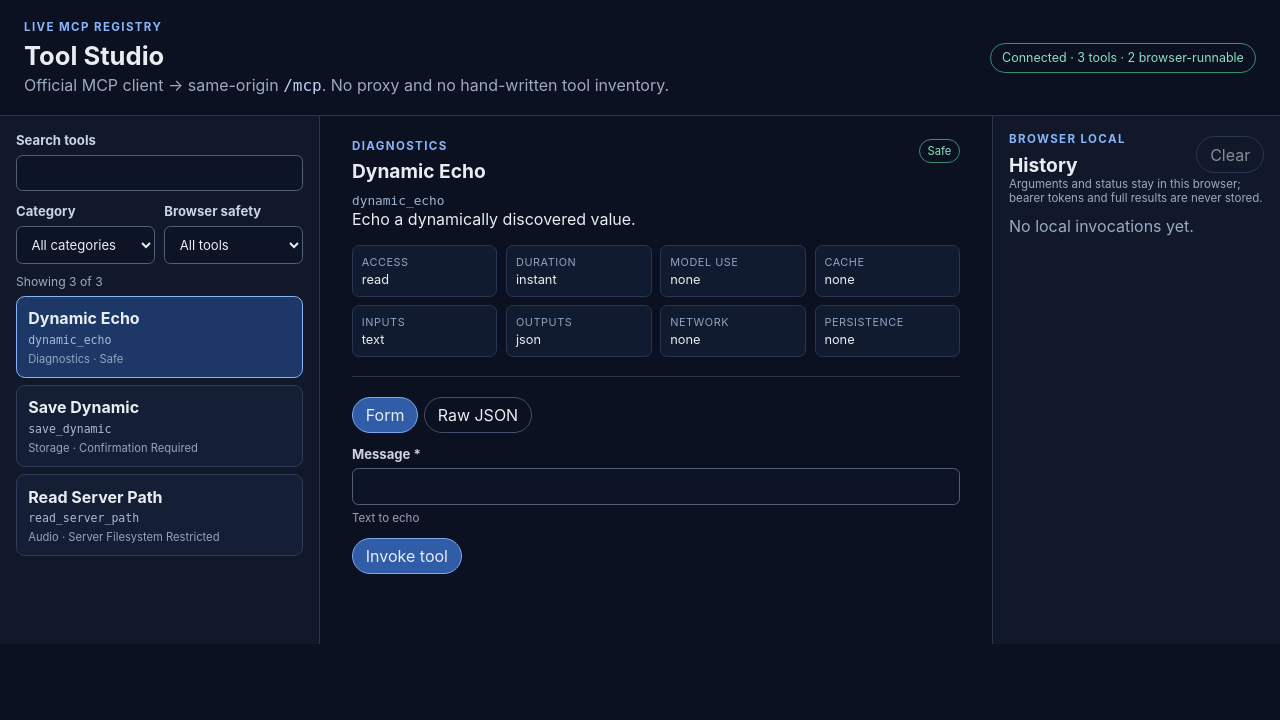
it: ToolStudio › renders every dynamically discovered tool and searches/filters the catalog
Expected: the text "Connected · 3 tools · 2 browser-runnable" is shown, [990,43,1256,73]
Expected: the button "Dynamic Echo dynamic_echo diagnostics · safe" is shown, [16,296,303,378]
Step 1. Type "server path" into the search field labelled "Search tools" → (160, 173), box [16,155,303,191]
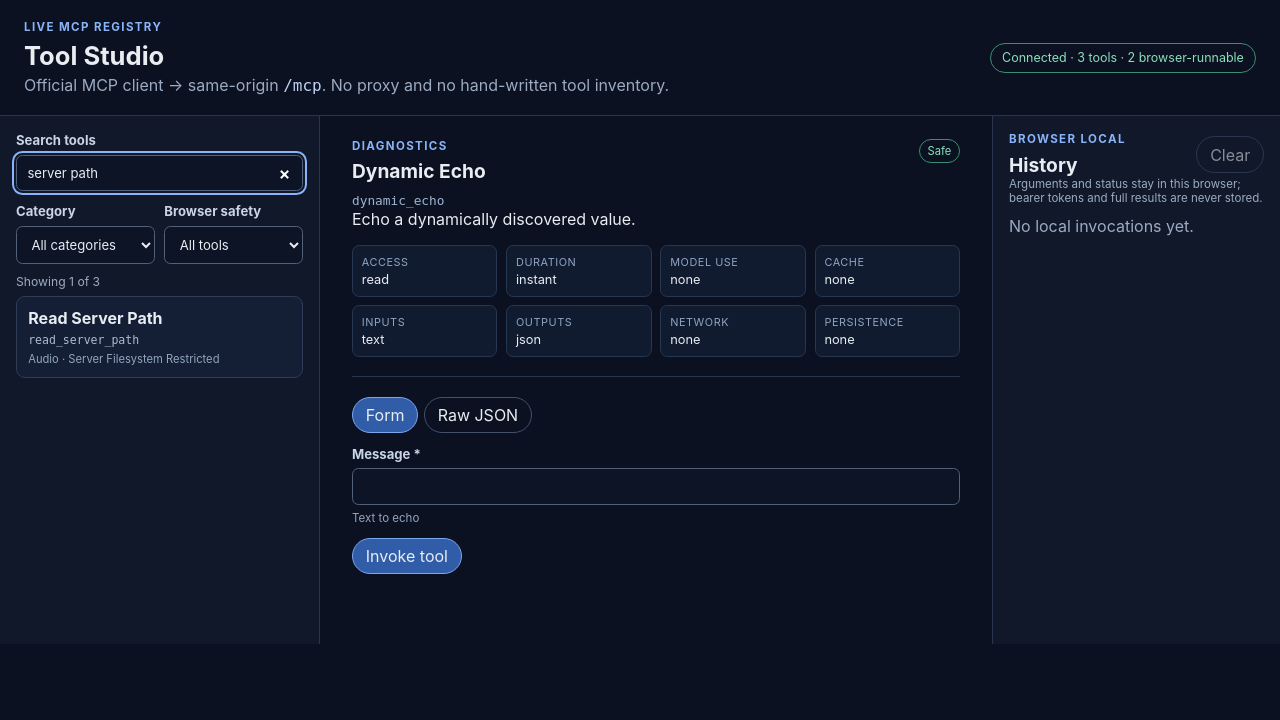
Expected: the button "read_server_path" is shown, [16,296,303,378]
Now the text "Showing 1 of 3" is shown, box [16,274,100,289]
Step 2. Clear the search field labelled "Search tools" → (160, 173), box [16,155,303,191]
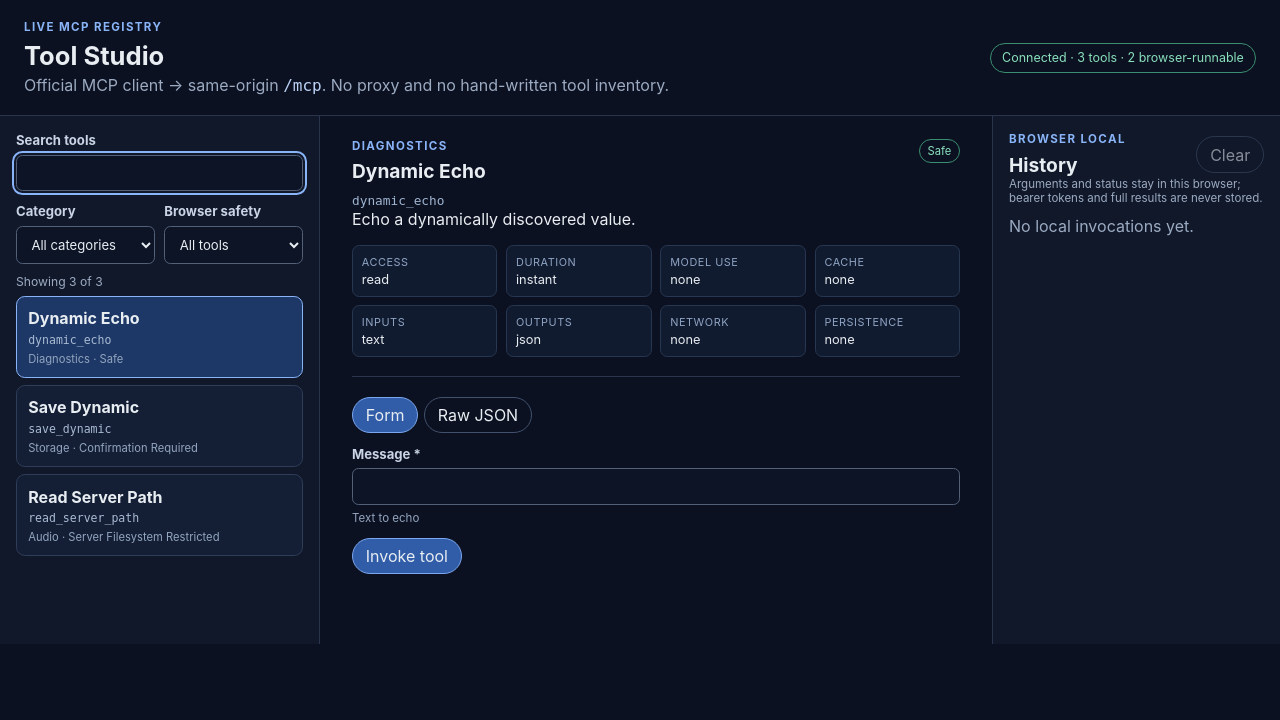
Step 3. Select "Browser-runnable" in the dropdown labelled "Browser safety" → (234, 245), box [164,226,303,264]
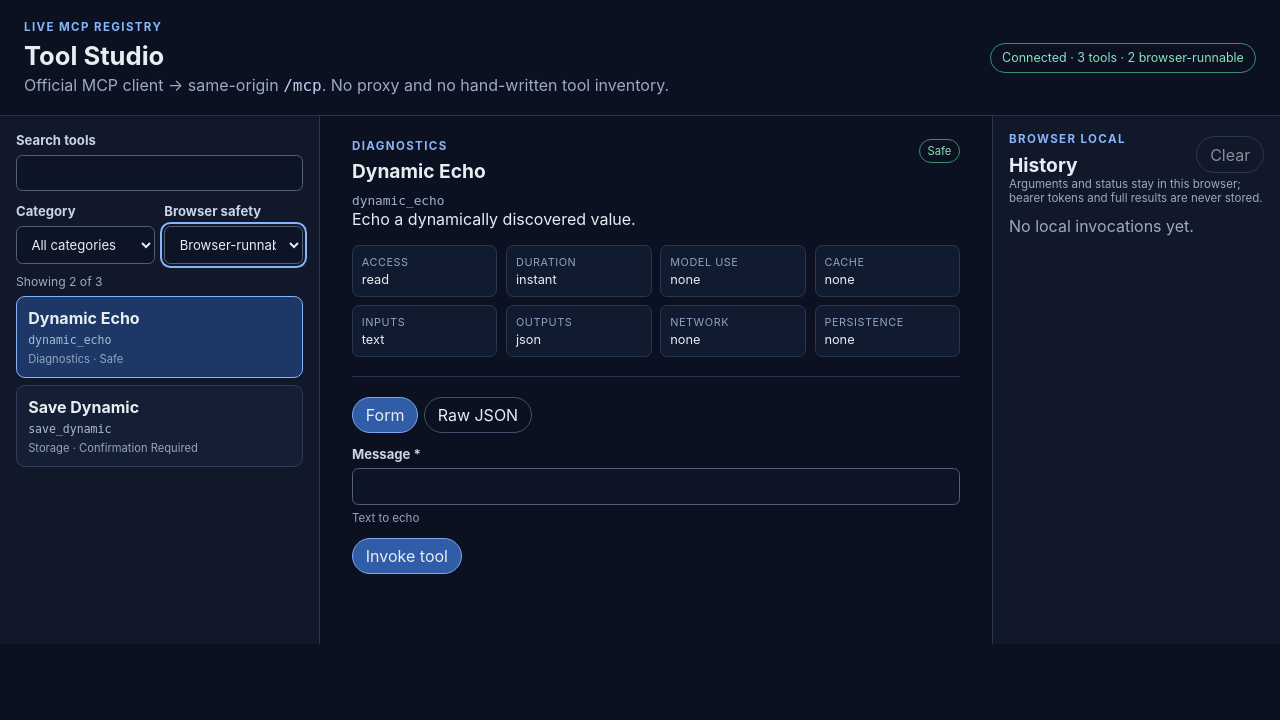
Now the text "Showing 2 of 3" is shown, box [16,274,103,289]
Now the button "read_server_path" is gone
